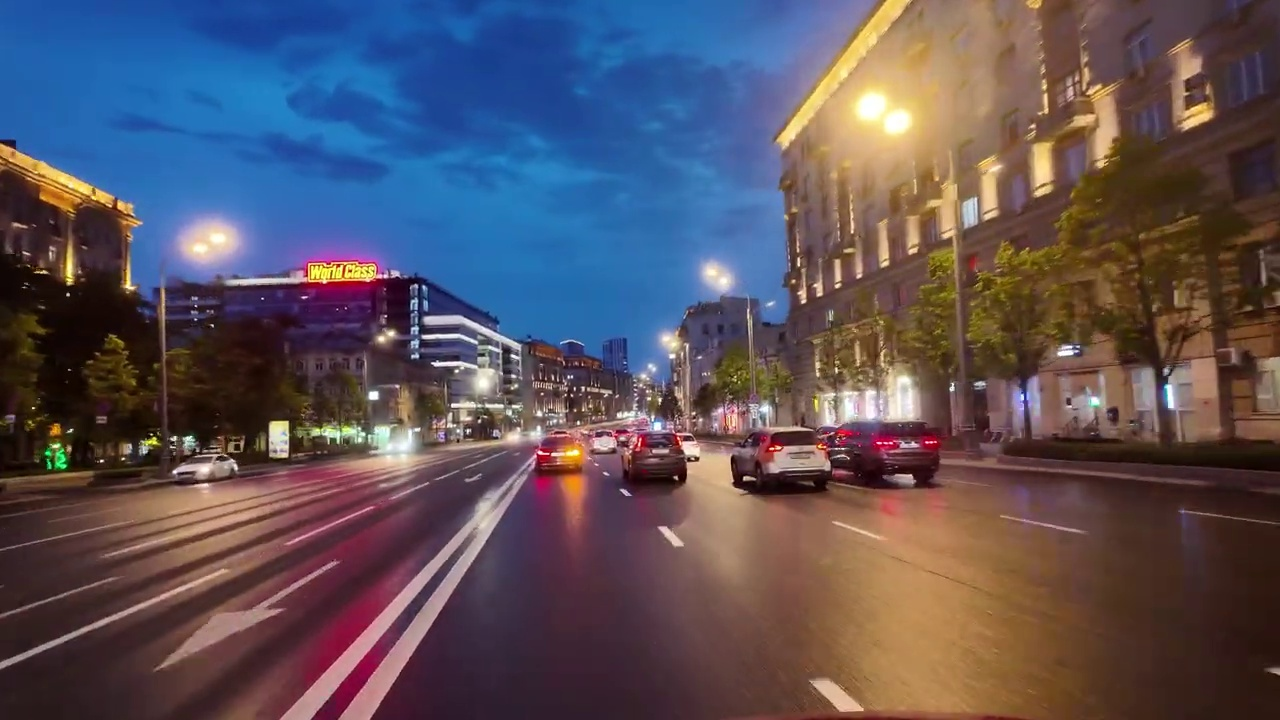acesa: (846, 85, 916, 139), (186, 221, 232, 263), (703, 261, 732, 289), (662, 330, 686, 358)
